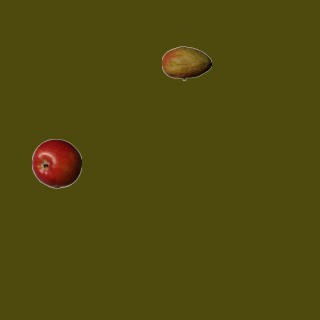Apple Braeburn: (31, 138, 81, 188)
Papaya: (161, 38, 211, 88)
